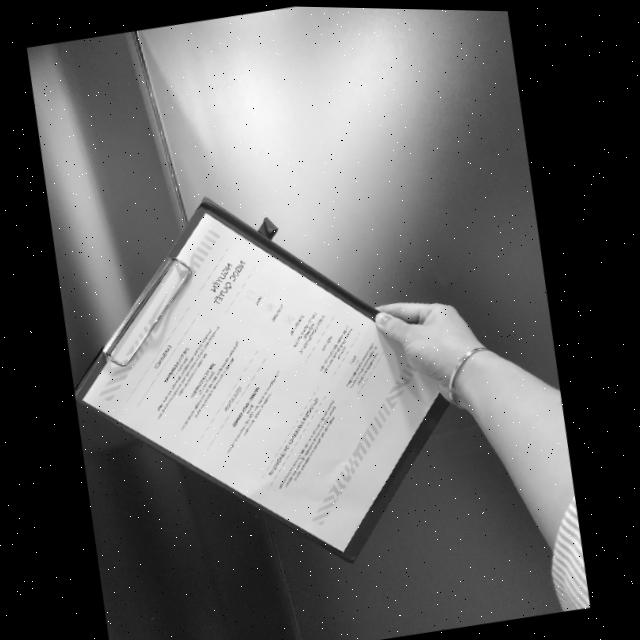document: (83, 212, 452, 551)
